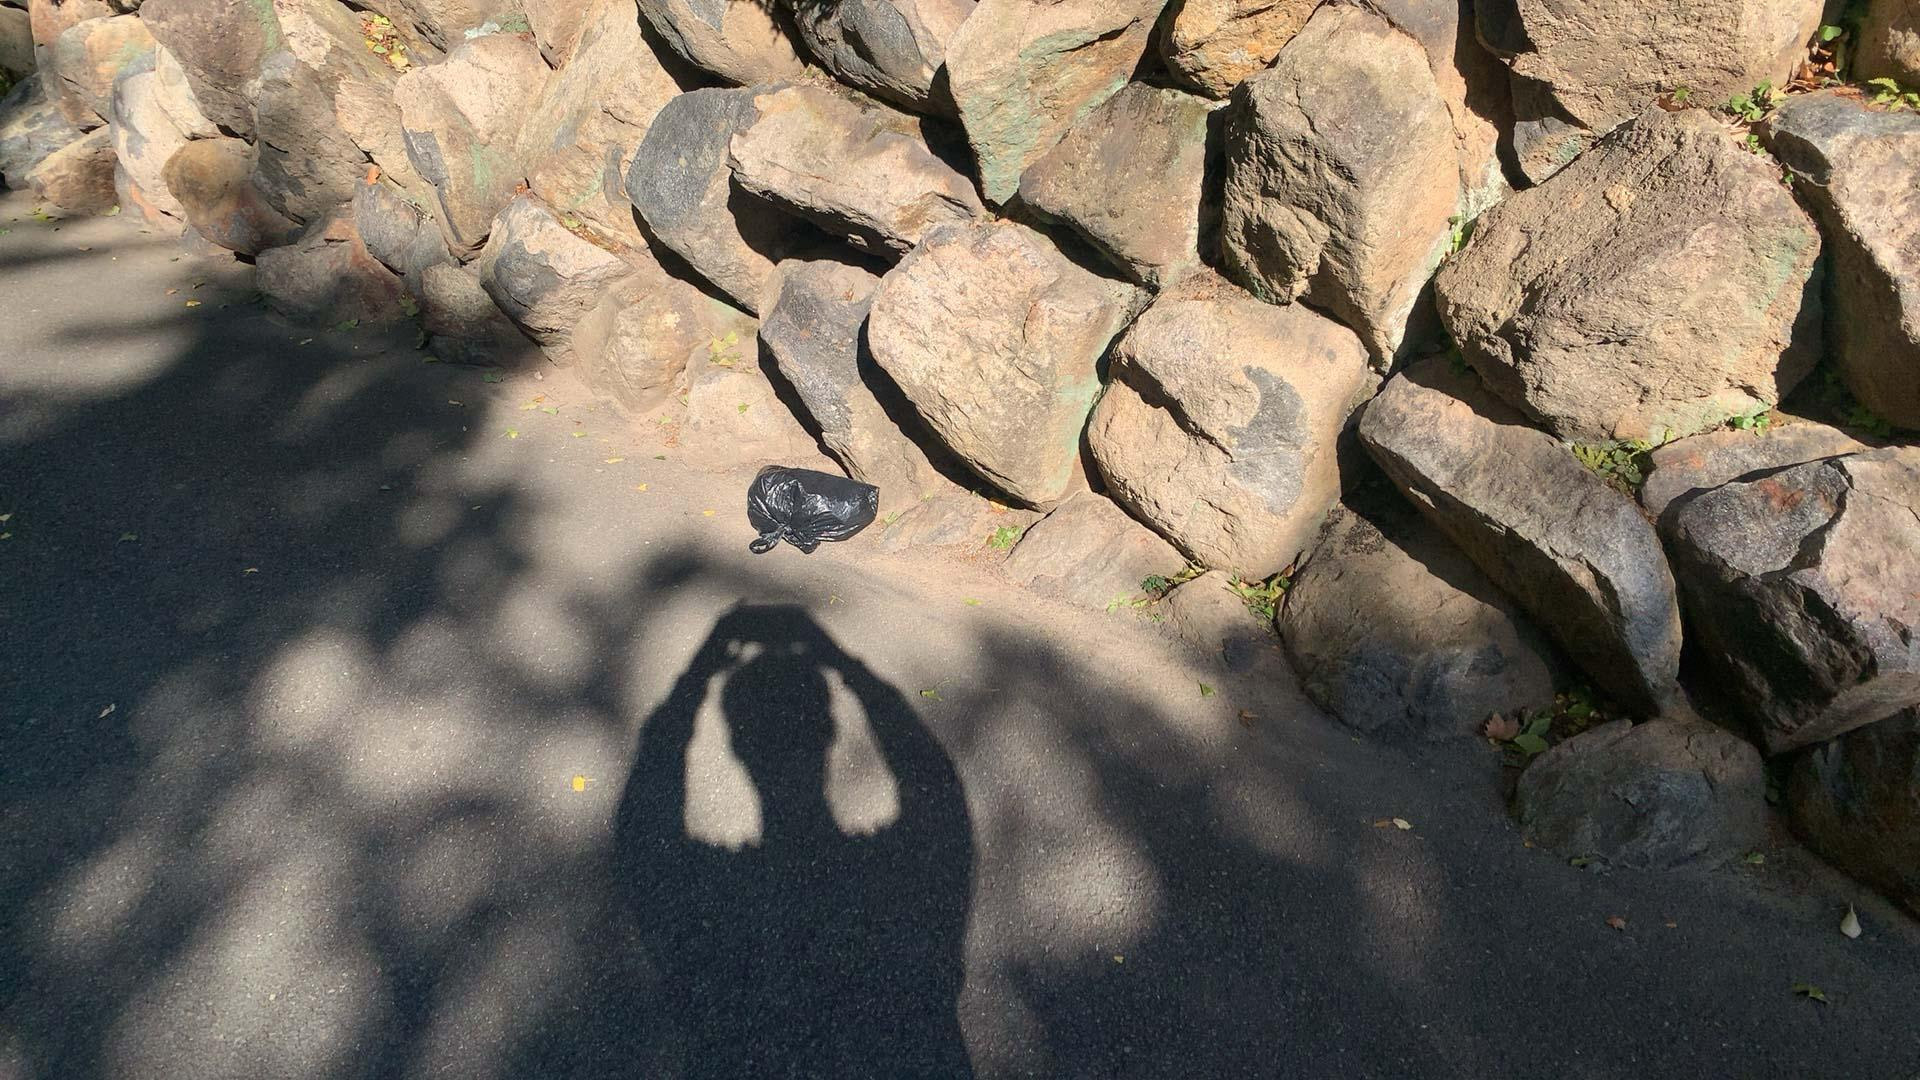black_bag: (729, 455, 886, 570)
